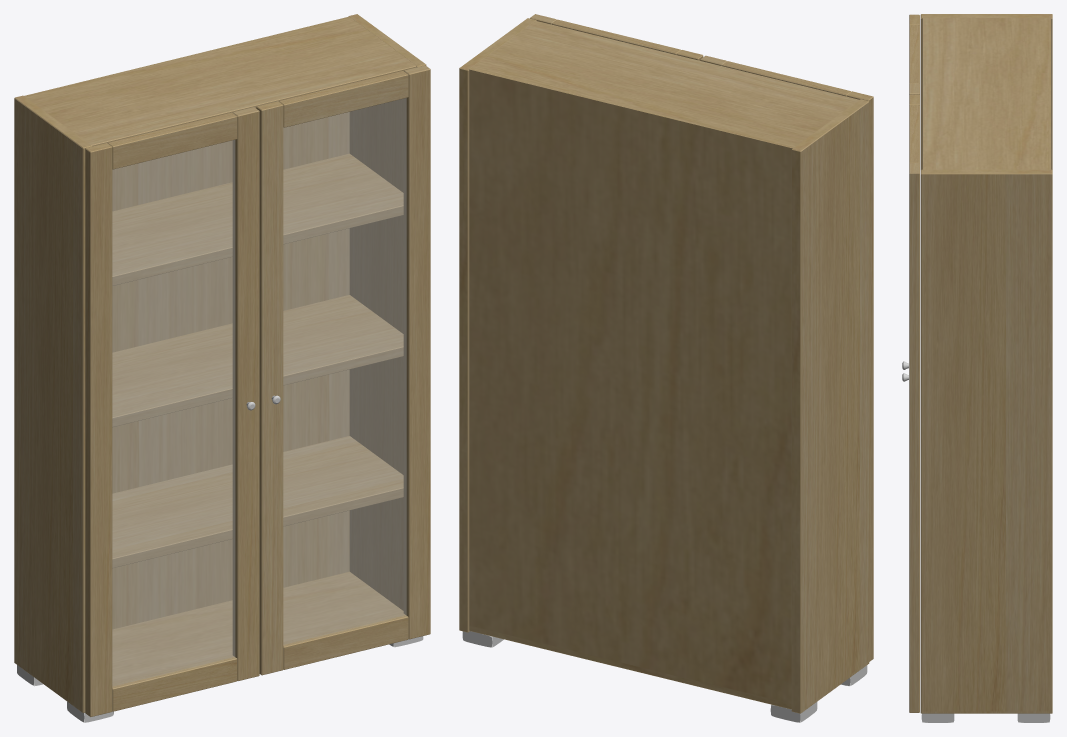
File: bookcase.glb
3 views of the same model, side by side, from view 1: azimuth 30°, elevation 25°; view 2: azimuth 150°, elevation 25°; view 3: azimuth 270°, elevation 25° (orthographic). The views are drawn at different scales.
Parts seen in each view (by area): view 1: symbol; view 2: symbol; view 3: symbol.
Boxes of the visible parts, left/top/right/bottom form: symbol: left=14, top=14, right=430, bottom=722; symbol: left=459, top=14, right=873, bottom=722; symbol: left=902, top=14, right=1052, bottom=722.
Bounding box in the file's own units: 91.88 × 147 × 36.46.
4 materials, 1 textured.
